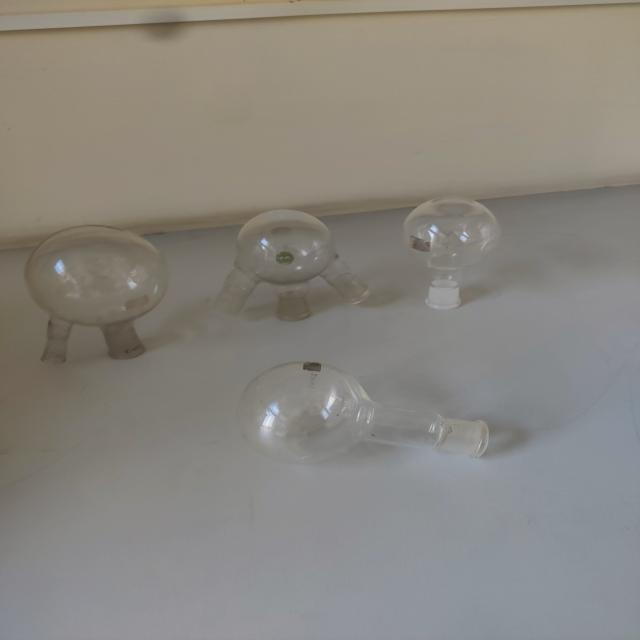Round_Bottom_Flask_Borosilicate_Glass_1_Neck: (226, 344, 552, 478), (382, 173, 519, 325)
Round_Bottom_Flask_Borosilicate_Glass_2_Neck: (5, 208, 191, 382)
Round_Bottom_Flask_Borosilicate_Glass_3_Neck: (199, 188, 396, 342)
